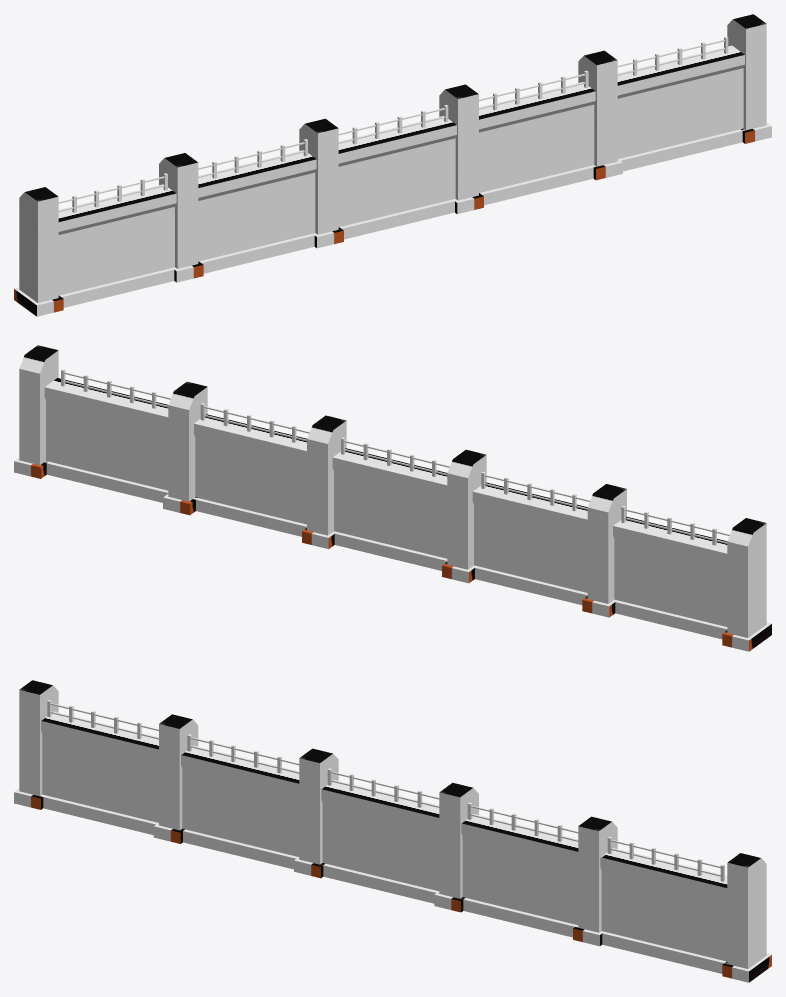
The model's file is chengqiang_03.fbx.
3 renders of one model, top to bottom at view 1: azimuth 30°, elevation 25°; view 2: azimuth 150°, elevation 25°; view 3: azimuth 330°, elevation 25°, orthographic.
Parts seen in each view (by area): view 1: chengqiang_03; view 2: chengqiang_03; view 3: chengqiang_03.
Boxes of the visible parts, <box> form: chengqiang_03: <box>14,14,771,316</box>; chengqiang_03: <box>14,345,771,651</box>; chengqiang_03: <box>14,680,771,982</box>.
Size of the model in its own units: 4669 by 685 by 253.
